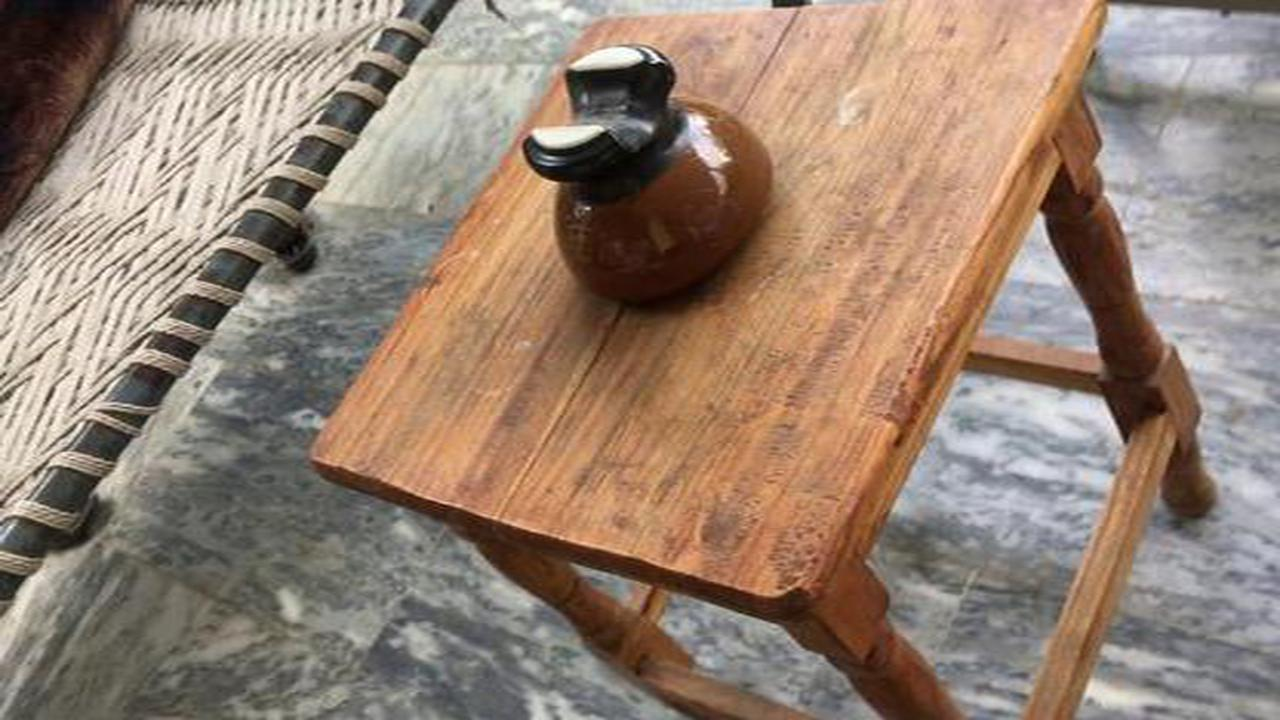insulator_pin: (514, 40, 788, 328)
